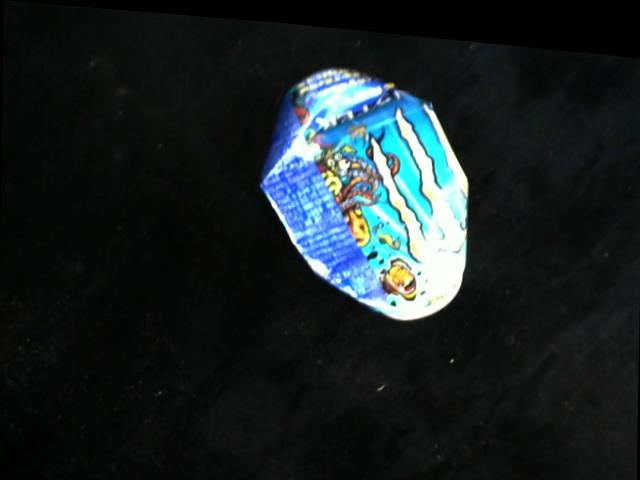can: (259, 56, 477, 323)
